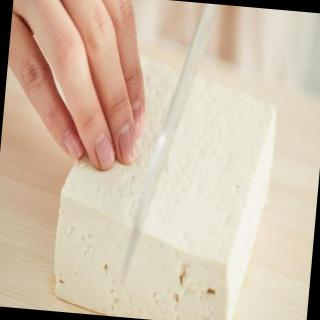Tahu: (37, 36, 271, 320)
